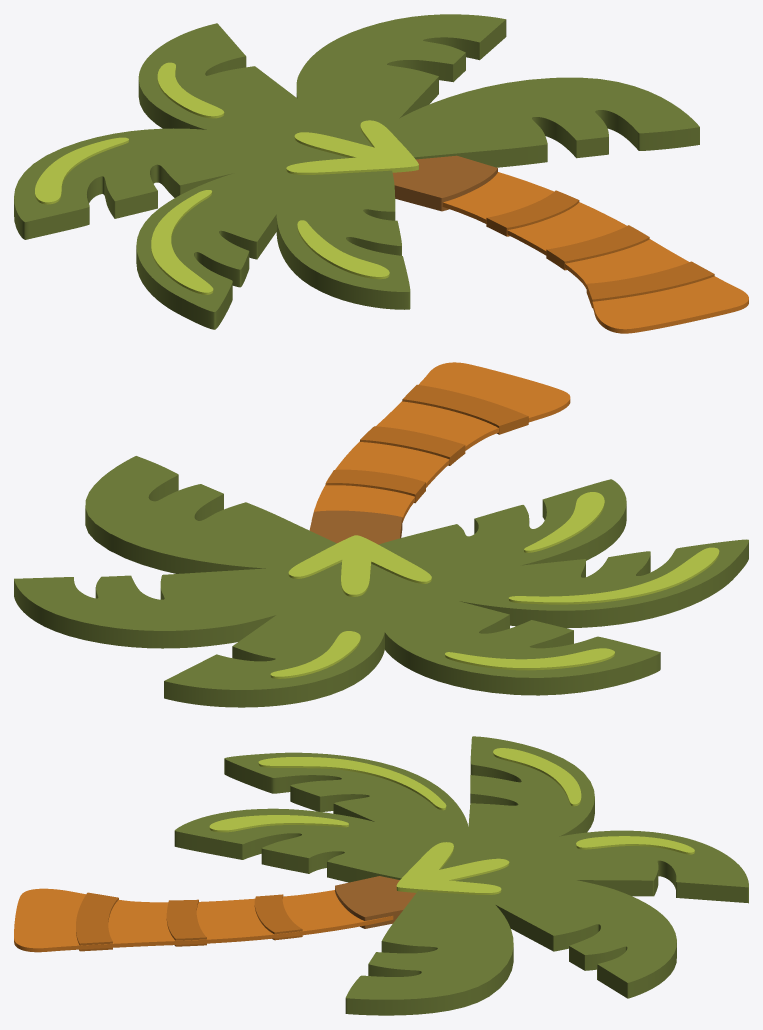
Rendered from emoji_u1f334.glb.
3 renders of one model, top to bottom at view 1: azimuth 30°, elevation 25°; view 2: azimuth 150°, elevation 25°; view 3: azimuth 270°, elevation 25°, orthographic. The views are drawn at different scales.
Parts seen in each view (by area): view 1: emoji_u1f334; view 2: emoji_u1f334; view 3: emoji_u1f334.
Boxes of the visible parts, <box> form: emoji_u1f334: <box>14,14,748,333</box>; emoji_u1f334: <box>14,362,748,707</box>; emoji_u1f334: <box>14,736,748,1015</box>.
Size of the model in its own units: 0.0286 by 0.001 by 0.0338.
